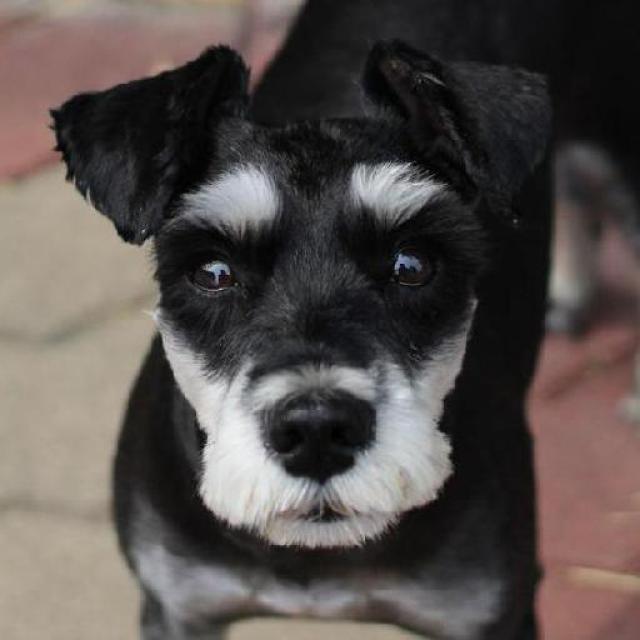sad: (62, 24, 530, 573)
